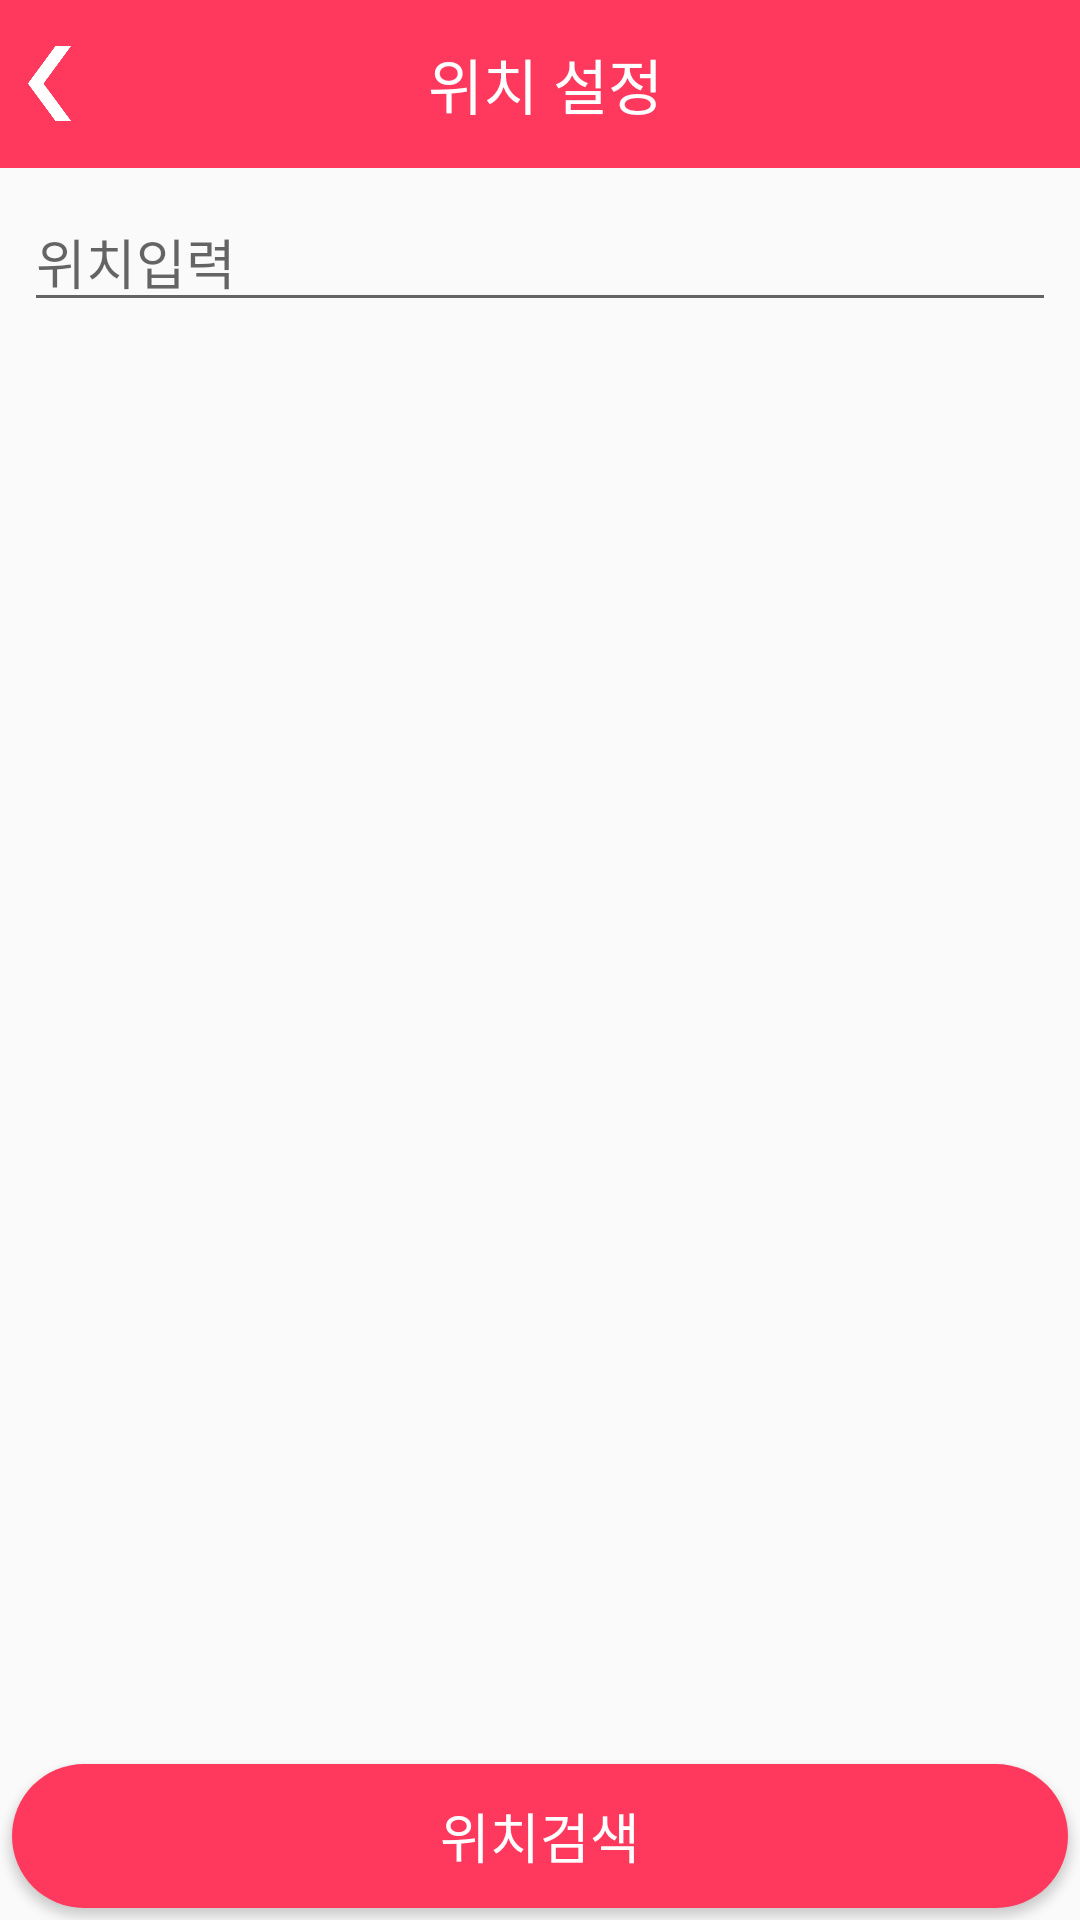

Icons on this 1080w x 1920h Android screen, each with its box as (x1, y1, x2, y2):
back: (28, 46, 71, 121)
